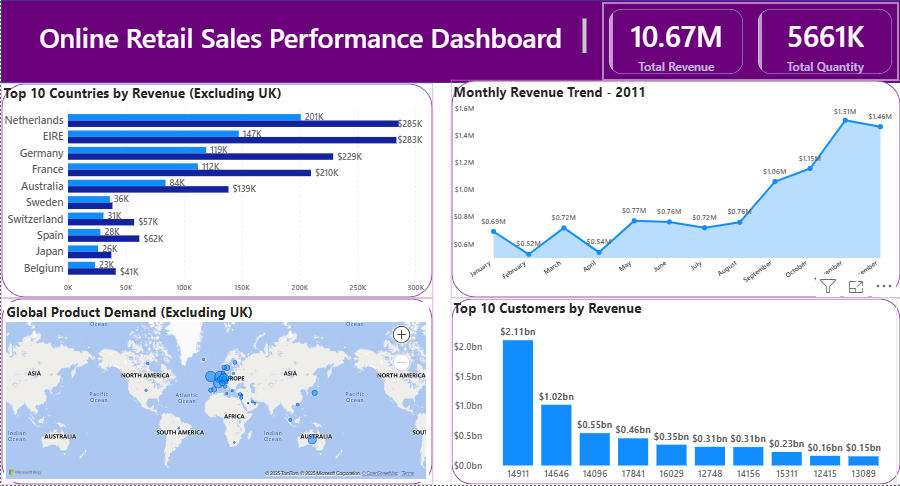

This screenshot's page, from the dashboard's own definition file:
{"tool":"powerbi","page":{"name":"Dashboard","canvas":[1800,970],"ordinal":0},"visuals":[{"type":"shape","box":[0,0,1800,166],"z":0},{"type":"textbox","box":[28,32,1148,80],"z":1000},{"type":"cardVisual","fields":{"Data":["Online Retail.Total Revenue","Online Retail.Total Quantity"]},"box":[1198,0,602,166],"z":2000},{"type":"shape","box":[900,160,900,436],"z":3000},{"type":"lineChart","title":"Monthly Revenue Trend - 2011","fields":{"Category":["Online Retail.InvoiceDate.Variation.Date Hierarchy.Month"],"Y":["Sum(Online Retail.Revenue)"]},"box":[900,164,892,422],"z":4000},{"type":"shape","box":[0,166,864,430],"z":5000},{"type":"shape","box":[0,596,864,374],"z":6000},{"type":"shape","box":[900,596,900,374],"z":7000},{"type":"clusteredBarChart","title":"Top 10 Countries by Revenue (Excluding UK)","fields":{"Category":["CountriesExclUK.Country"],"Y":["Sum(CountriesExclUK.Total Quantity)","Sum(CountriesExclUK.Total Revenue)"]},"box":[0,166,864,430],"z":8000},{"type":"clusteredColumnChart","title":"Top 10 Customers by Revenue","fields":{"Category":["Customers.CustomerID"],"Y":["Sum(Customers.Total Revenue)"]},"box":[900,596,892,374],"z":9000},{"type":"map","title":"Global Product Demand (Excluding UK)","fields":{"Category":["Online Retail.Country"],"Size":["Online Retail.Total Demand"]},"box":[6,604,850,360],"z":10000}]}

Visuals, with their boxes in screenshot pixels (x1, y1, x2, y2), scaled from the page's 1800x970 canvas onto the 900x486 screenshot:
shape: crop(0, 0, 899, 83)
textbox: crop(14, 16, 588, 56)
cardVisual - Online Retail.Total Revenue x Online Retail.Total Quantity: crop(599, 0, 899, 83)
shape: crop(450, 80, 899, 299)
"Monthly Revenue Trend - 2011" lineChart: crop(450, 82, 896, 294)
shape: crop(0, 83, 432, 299)
shape: crop(0, 299, 432, 485)
shape: crop(450, 299, 899, 485)
"Top 10 Countries by Revenue (Excluding UK)" clusteredBarChart: crop(0, 83, 432, 299)
"Top 10 Customers by Revenue" clusteredColumnChart: crop(450, 299, 896, 485)
"Global Product Demand (Excluding UK)" map: crop(3, 303, 428, 483)
